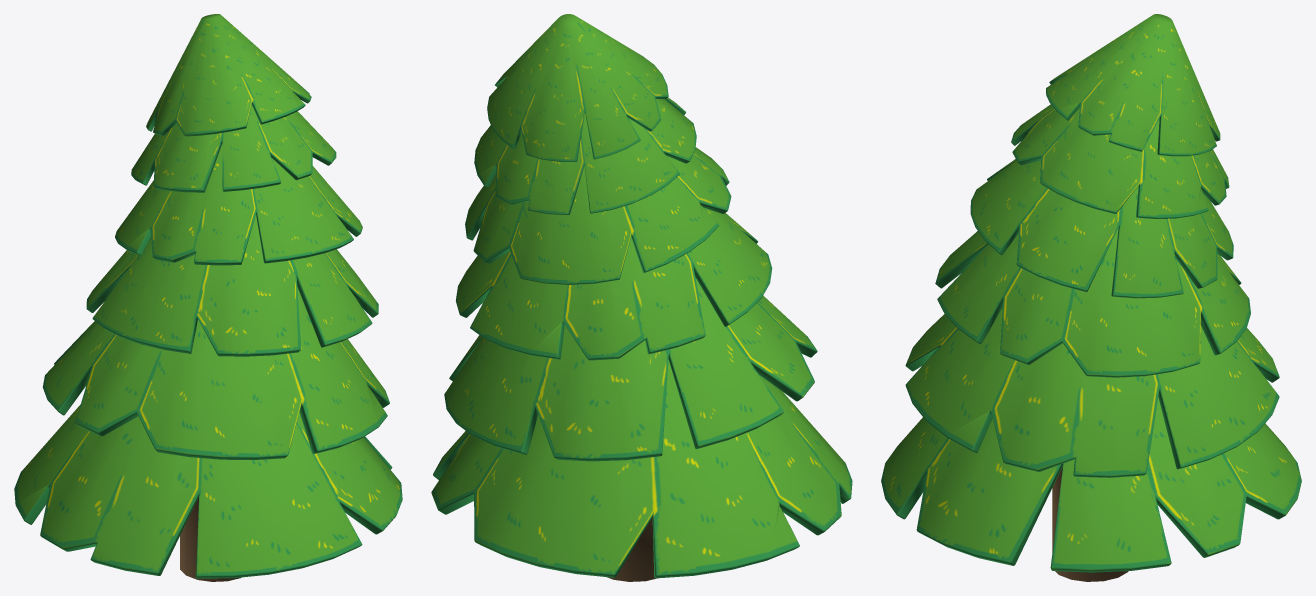
The model's file is pineTreeV2.fbx.
3 renders of one model, left to right at view 1: azimuth 30°, elevation 25°; view 2: azimuth 150°, elevation 25°; view 3: azimuth 270°, elevation 25°, orthographic. The views are drawn at different scales.
Parts seen in each view (by area): view 1: treeLeavesV2, treeTrunkV2; view 2: treeLeavesV2, treeTrunkV2; view 3: treeLeavesV2, treeTrunkV2.
Part boxes in pixels (left/top/right/bottom): treeLeavesV2: left=14, top=14, right=402, bottom=578; treeTrunkV2: left=180, top=497, right=241, bottom=581; treeLeavesV2: left=431, top=14, right=852, bottom=578; treeTrunkV2: left=606, top=517, right=656, bottom=581; treeLeavesV2: left=881, top=14, right=1301, bottom=572; treeTrunkV2: left=1052, top=466, right=1128, bottom=581.
Bounding box in the file's own units: 258 × 382 × 259.
